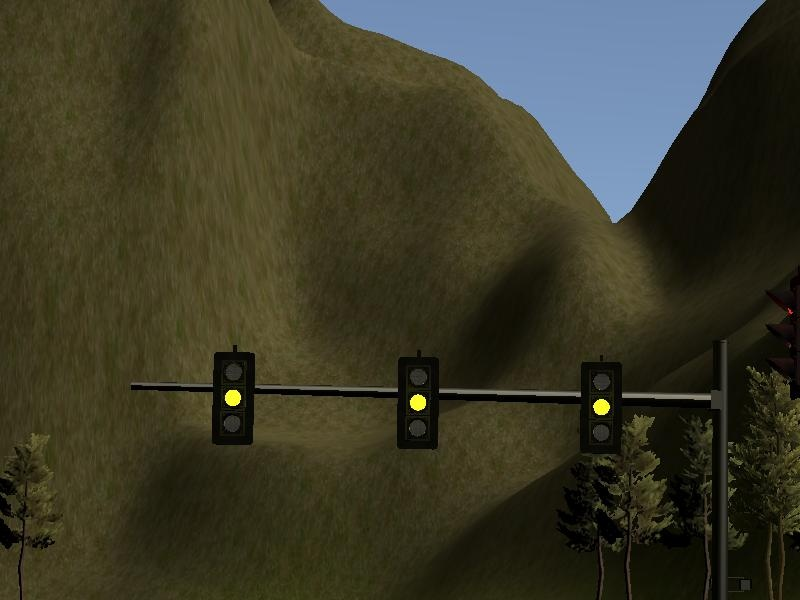yellow: (205, 342, 262, 450), (572, 354, 627, 461), (391, 350, 446, 456)
